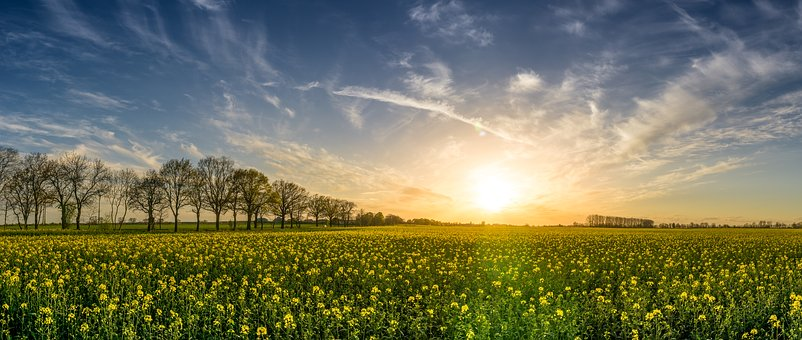flower: (8, 228, 802, 339)
sky: (13, 12, 797, 221)
tree: (12, 157, 353, 232)
